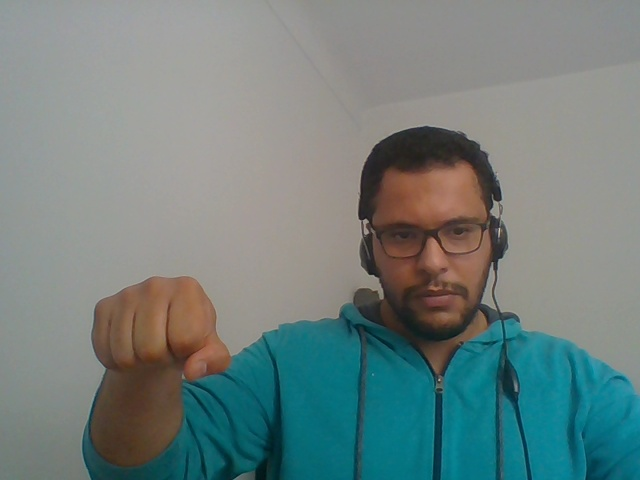yes: (76, 256, 243, 423)
